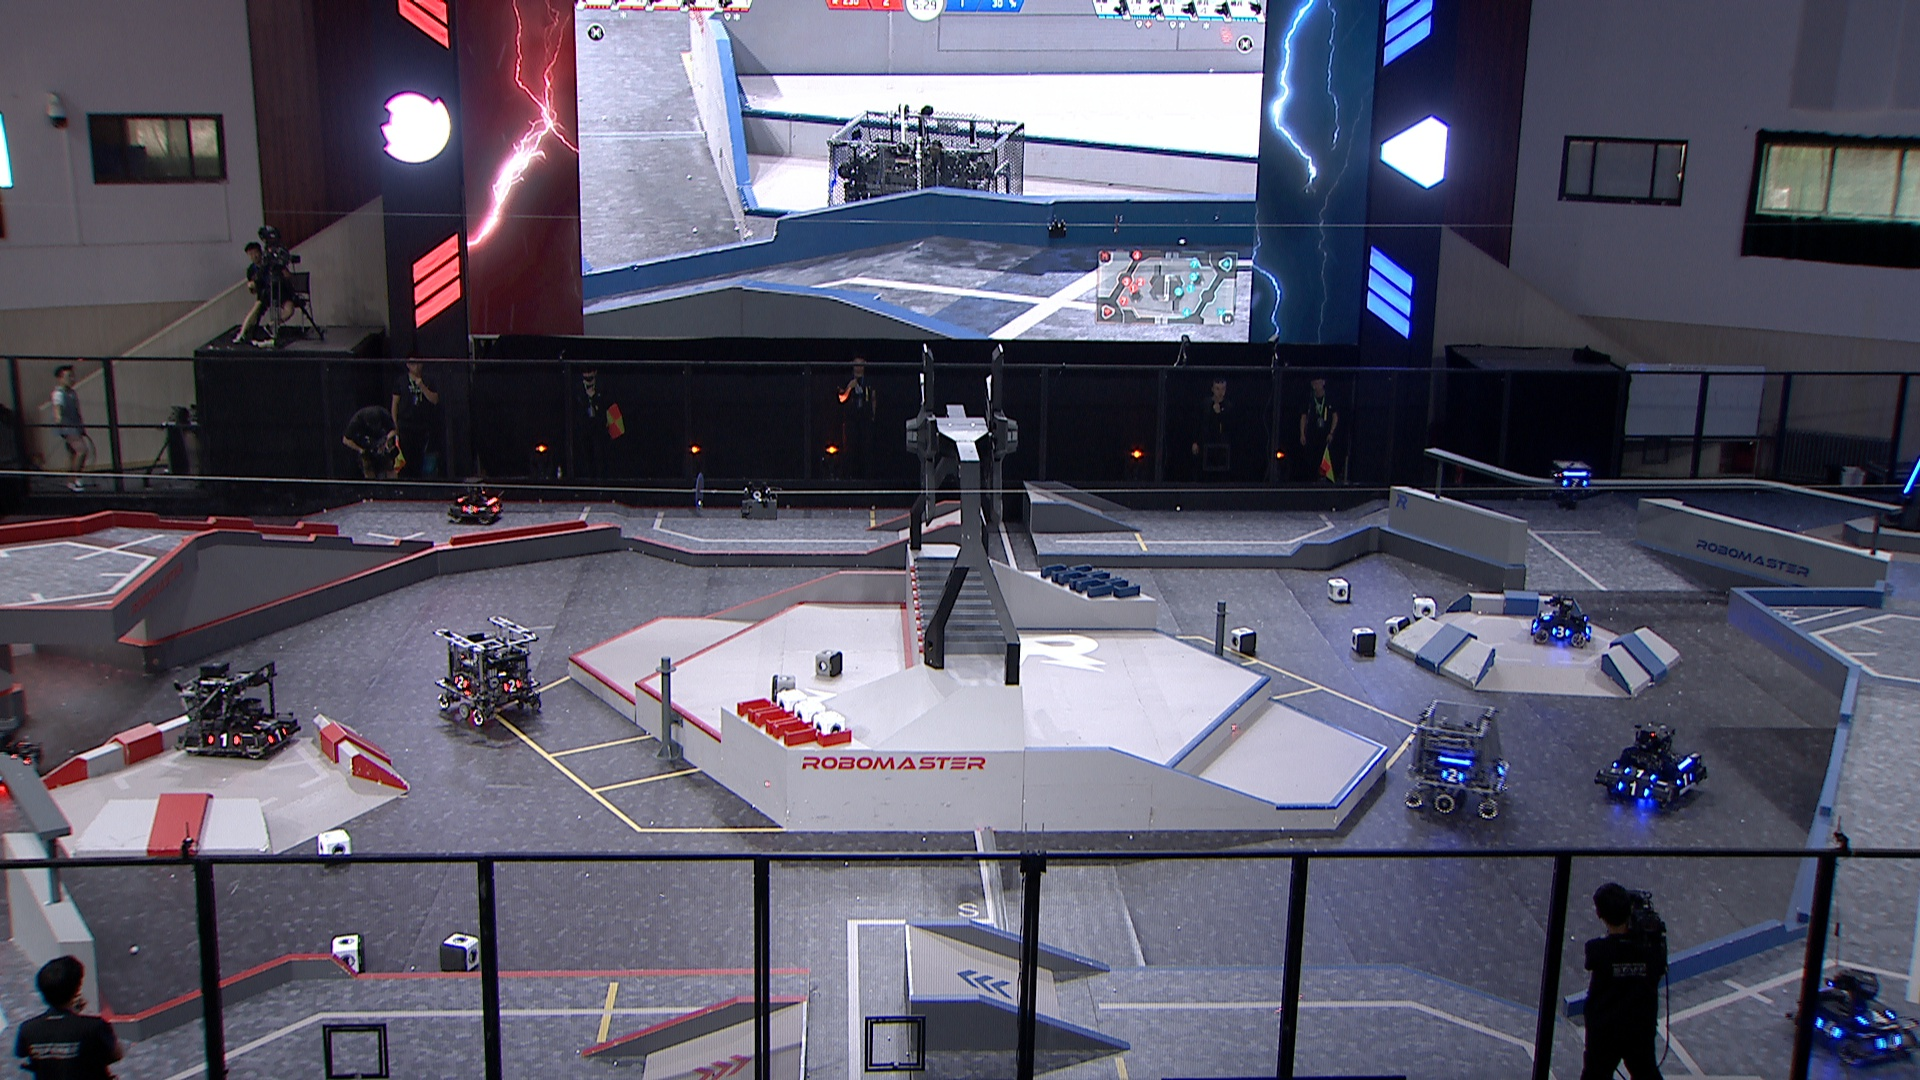armor: (1855, 1007, 1898, 1027), (204, 731, 243, 750), (1903, 458, 1920, 495), (1617, 781, 1651, 799), (1625, 765, 1658, 783), (1817, 1019, 1845, 1040), (1878, 1034, 1905, 1054), (266, 727, 287, 746), (1443, 767, 1466, 785), (1676, 771, 1697, 789), (501, 678, 524, 694), (1563, 476, 1589, 489), (252, 717, 278, 731), (1549, 626, 1575, 638), (454, 674, 469, 692), (462, 502, 479, 517), (1538, 609, 1556, 621), (491, 502, 502, 514)
base: (1879, 451, 1920, 535)
car: (1780, 965, 1920, 1067), (174, 654, 306, 760), (434, 615, 545, 732), (1404, 700, 1510, 822), (1590, 723, 1713, 815), (1532, 597, 1594, 647), (446, 475, 505, 524)
ignore: (825, 105, 1026, 204)
watcher: (1552, 462, 1593, 512)
